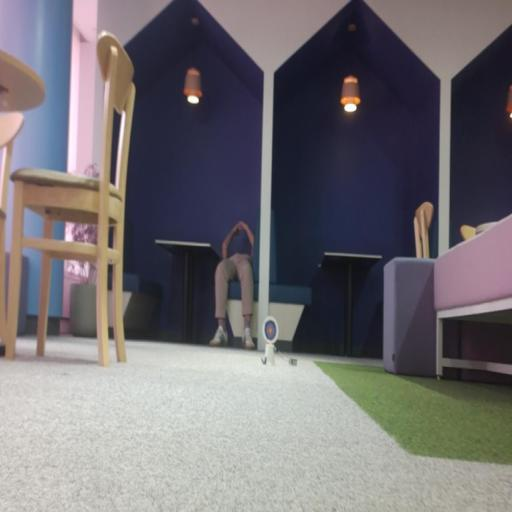target: (262, 316, 278, 343)
